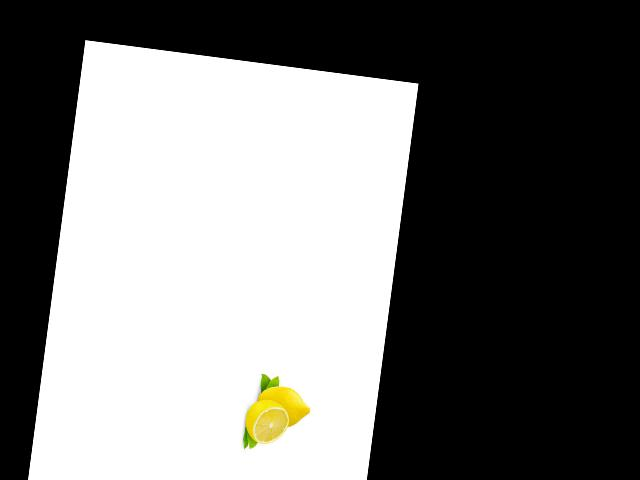lemon: (249, 378, 314, 431)
